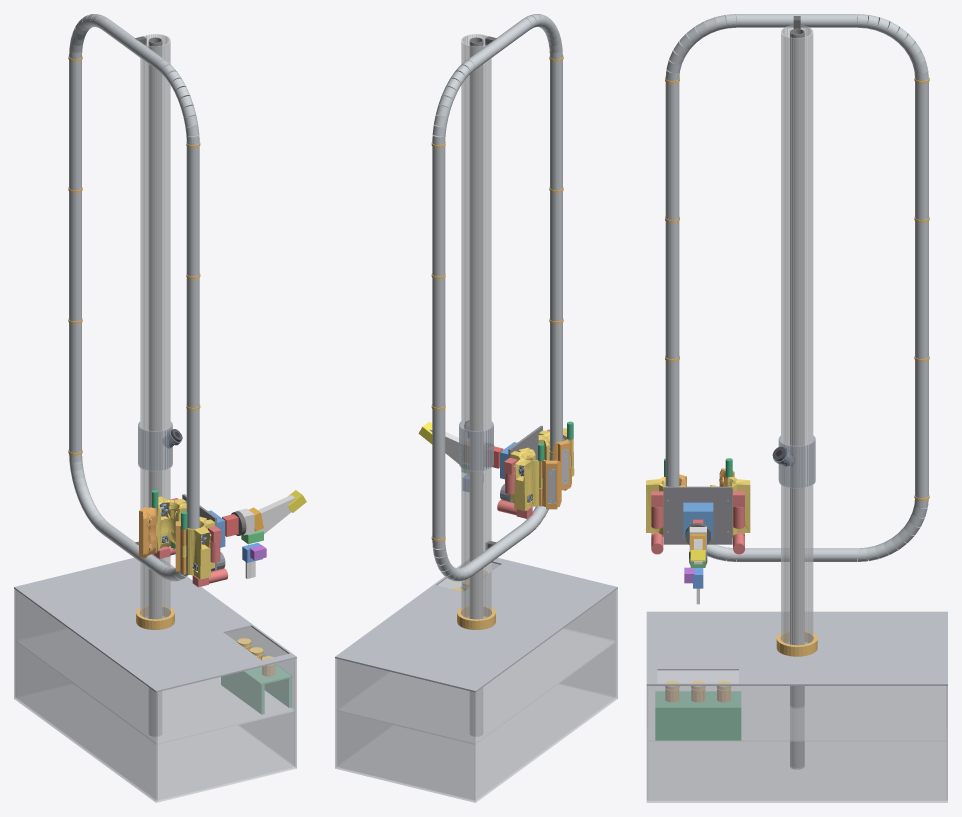
File: transplant-seedling-start-v9.glb
The picture shows the model from 3 angles, left to right: view 1: azimuth 30°, elevation 25°; view 2: azimuth 150°, elevation 25°; view 3: azimuth 270°, elevation 25°; orthographic projection. The views are drawn at different scales.
Bounding box in the file's own units: 0.4877 × 1.9 × 0.701.
